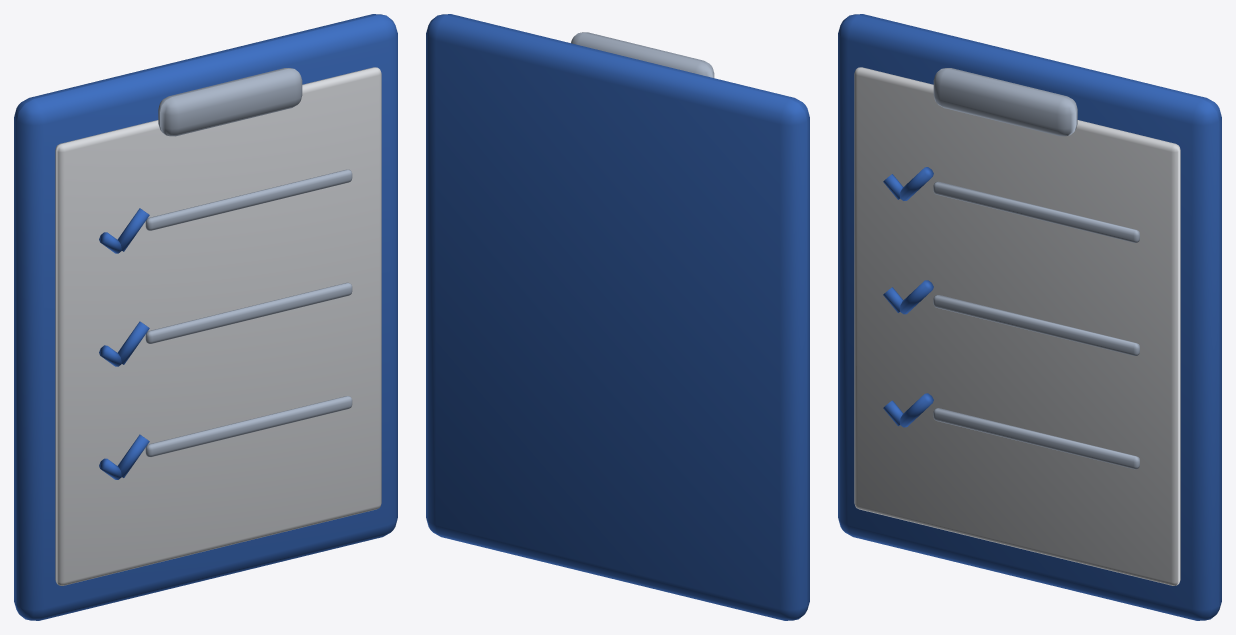
File: clipboard.glb
3 views of the same model, side by side, from view 1: azimuth 30°, elevation 25°; view 2: azimuth 150°, elevation 25°; view 3: azimuth 330°, elevation 25° (orthographic).
Visible parts, largest first — view 1: clipboard; view 2: clipboard; view 3: clipboard.
Part boxes in pixels (x1,y1,x2,y2): clipboard: (14,14,397,620); clipboard: (426,14,809,620); clipboard: (838,14,1221,620).
Bounding box in the file's own units: 0.35 × 0.46 × 0.066.
